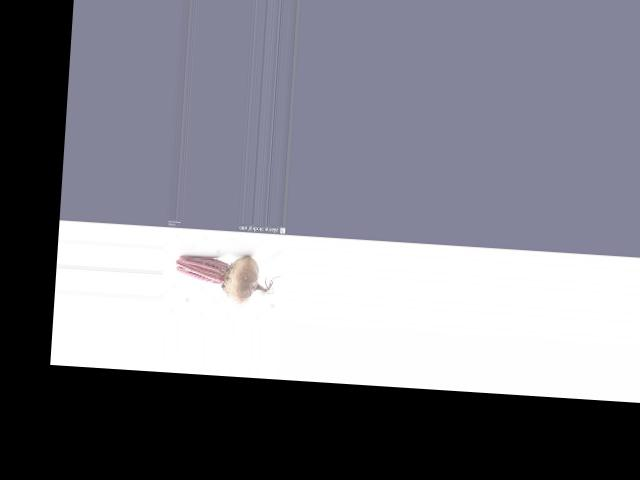beet: (173, 251, 280, 305)
